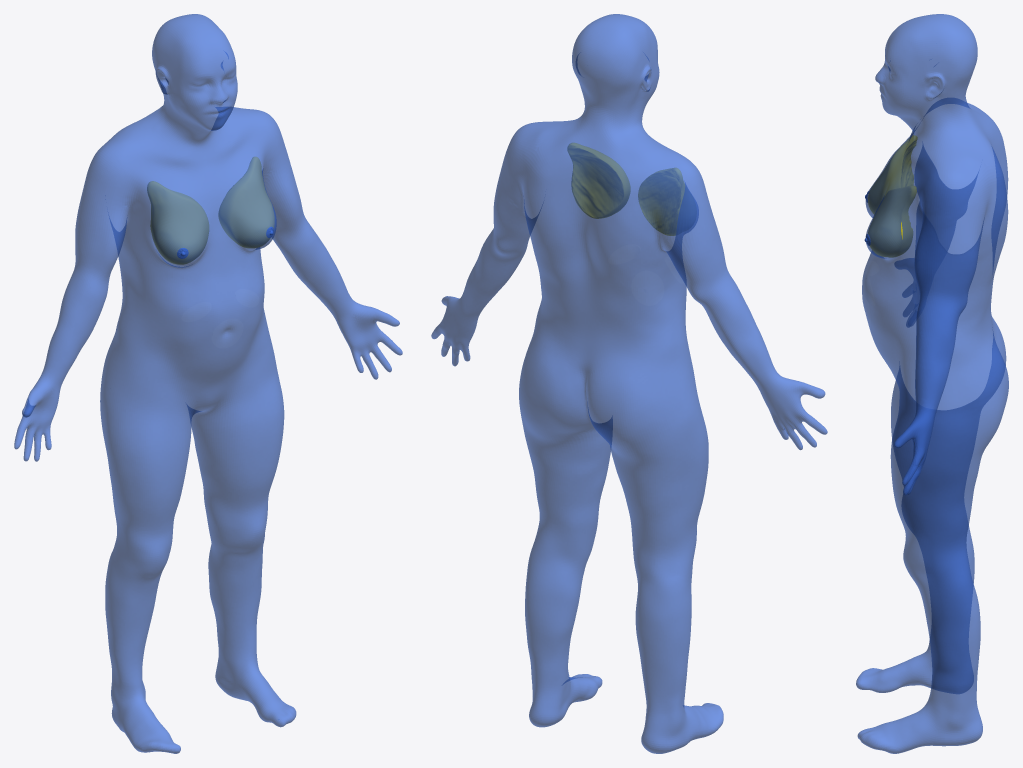
Rendered from female-integumentary.glb.
The picture shows the model from 3 angles, left to right: view 1: azimuth 30°, elevation 25°; view 2: azimuth 150°, elevation 25°; view 3: azimuth 270°, elevation 25°; orthographic projection.
Visible parts, largest first — view 1: VH_F_skin, VH_F_fat_R, VH_F_fat_L, VH_F_subcutaneous_abdominal_adipose_tissue_umbilicus_area; view 2: VH_F_skin, VH_F_fat_L, VH_F_fat_R, VH_F_subcutaneous_abdominal_adipose_tissue_umbilicus_area; view 3: VH_F_skin, VH_F_fat_L, VH_F_fat_R.
Part boxes in pixels (bbox=[...]): VH_F_skin: bbox=[14, 14, 402, 753]; VH_F_fat_R: bbox=[147, 181, 208, 264]; VH_F_fat_L: bbox=[218, 157, 274, 247]; VH_F_subcutaneous_abdominal_adipose_tissue_umbilicus_area: bbox=[212, 318, 243, 347]; VH_F_skin: bbox=[431, 14, 827, 753]; VH_F_fat_L: bbox=[567, 143, 630, 218]; VH_F_fat_R: bbox=[638, 168, 684, 235]; VH_F_subcutaneous_abdominal_adipose_tissue_umbilicus_area: bbox=[631, 271, 663, 305]; VH_F_skin: bbox=[856, 14, 1008, 753]; VH_F_fat_L: bbox=[868, 185, 916, 257]; VH_F_fat_R: bbox=[868, 135, 917, 214].
Bounding box in the file's own units: 0.9618 × 1.66 × 0.327.
